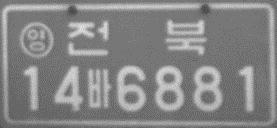1: (20, 64, 50, 111), (233, 65, 261, 113)
4: (53, 65, 82, 111)
6: (116, 64, 146, 112)
8: (153, 64, 184, 112), (192, 65, 223, 112)
바: (86, 68, 112, 109)
영: (18, 21, 53, 59)
전북_D: (65, 18, 207, 59)
